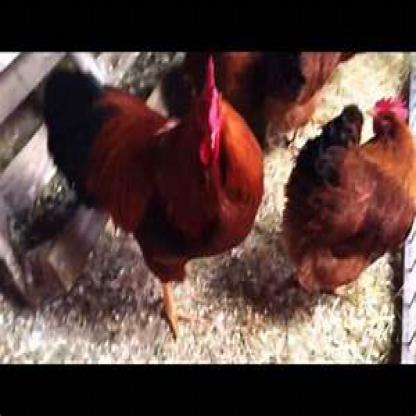chicken: (34, 57, 264, 338), (284, 91, 415, 305)
